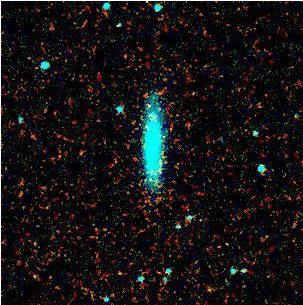star: (139, 89, 169, 119)
